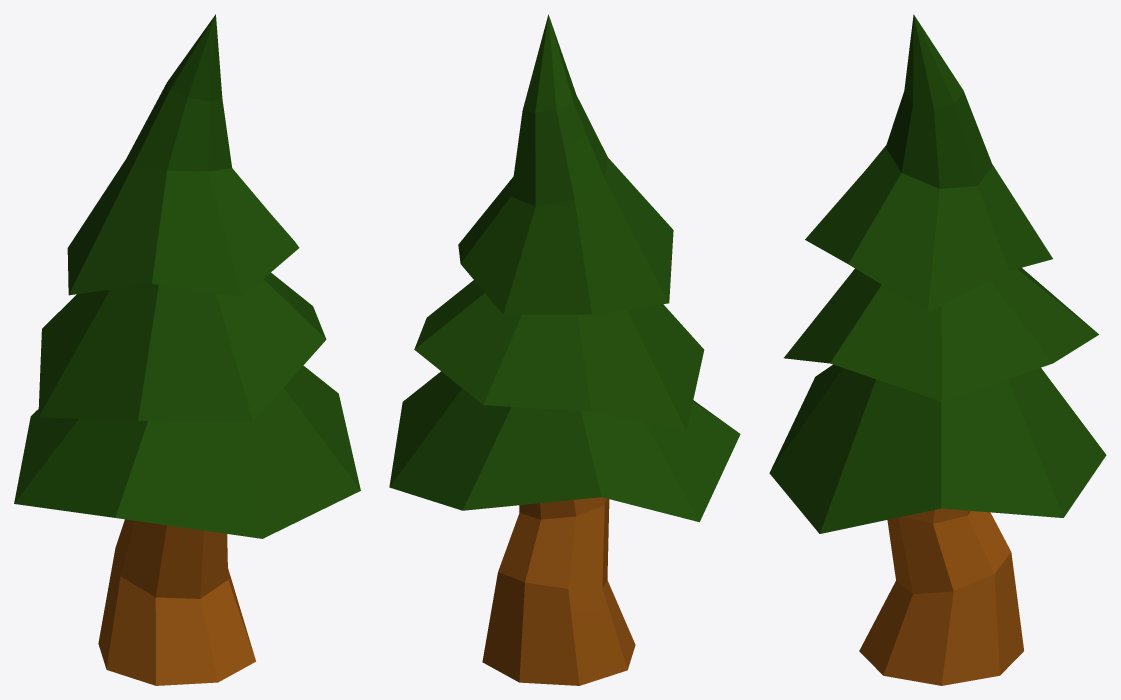
File: Tree.fbx
3 renders of one model, left to right at view 1: azimuth 30°, elevation 25°; view 2: azimuth 150°, elevation 25°; view 3: azimuth 270°, elevation 25°, orthographic. The views are drawn at different scales.
Parts seen in each view (by area): view 1: Tree; view 2: Tree; view 3: Tree.
Part boxes in pixels (x1,y1,x2,y2): Tree: (14,14,360,685); Tree: (389,14,740,685); Tree: (769,14,1106,685).
Size of the model in its own units: 635 by 1237 by 582.
